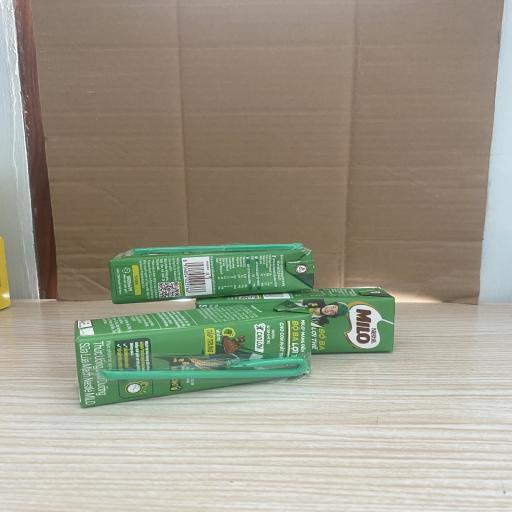milo: (74, 300, 313, 408), (194, 287, 395, 354), (108, 243, 314, 304)
